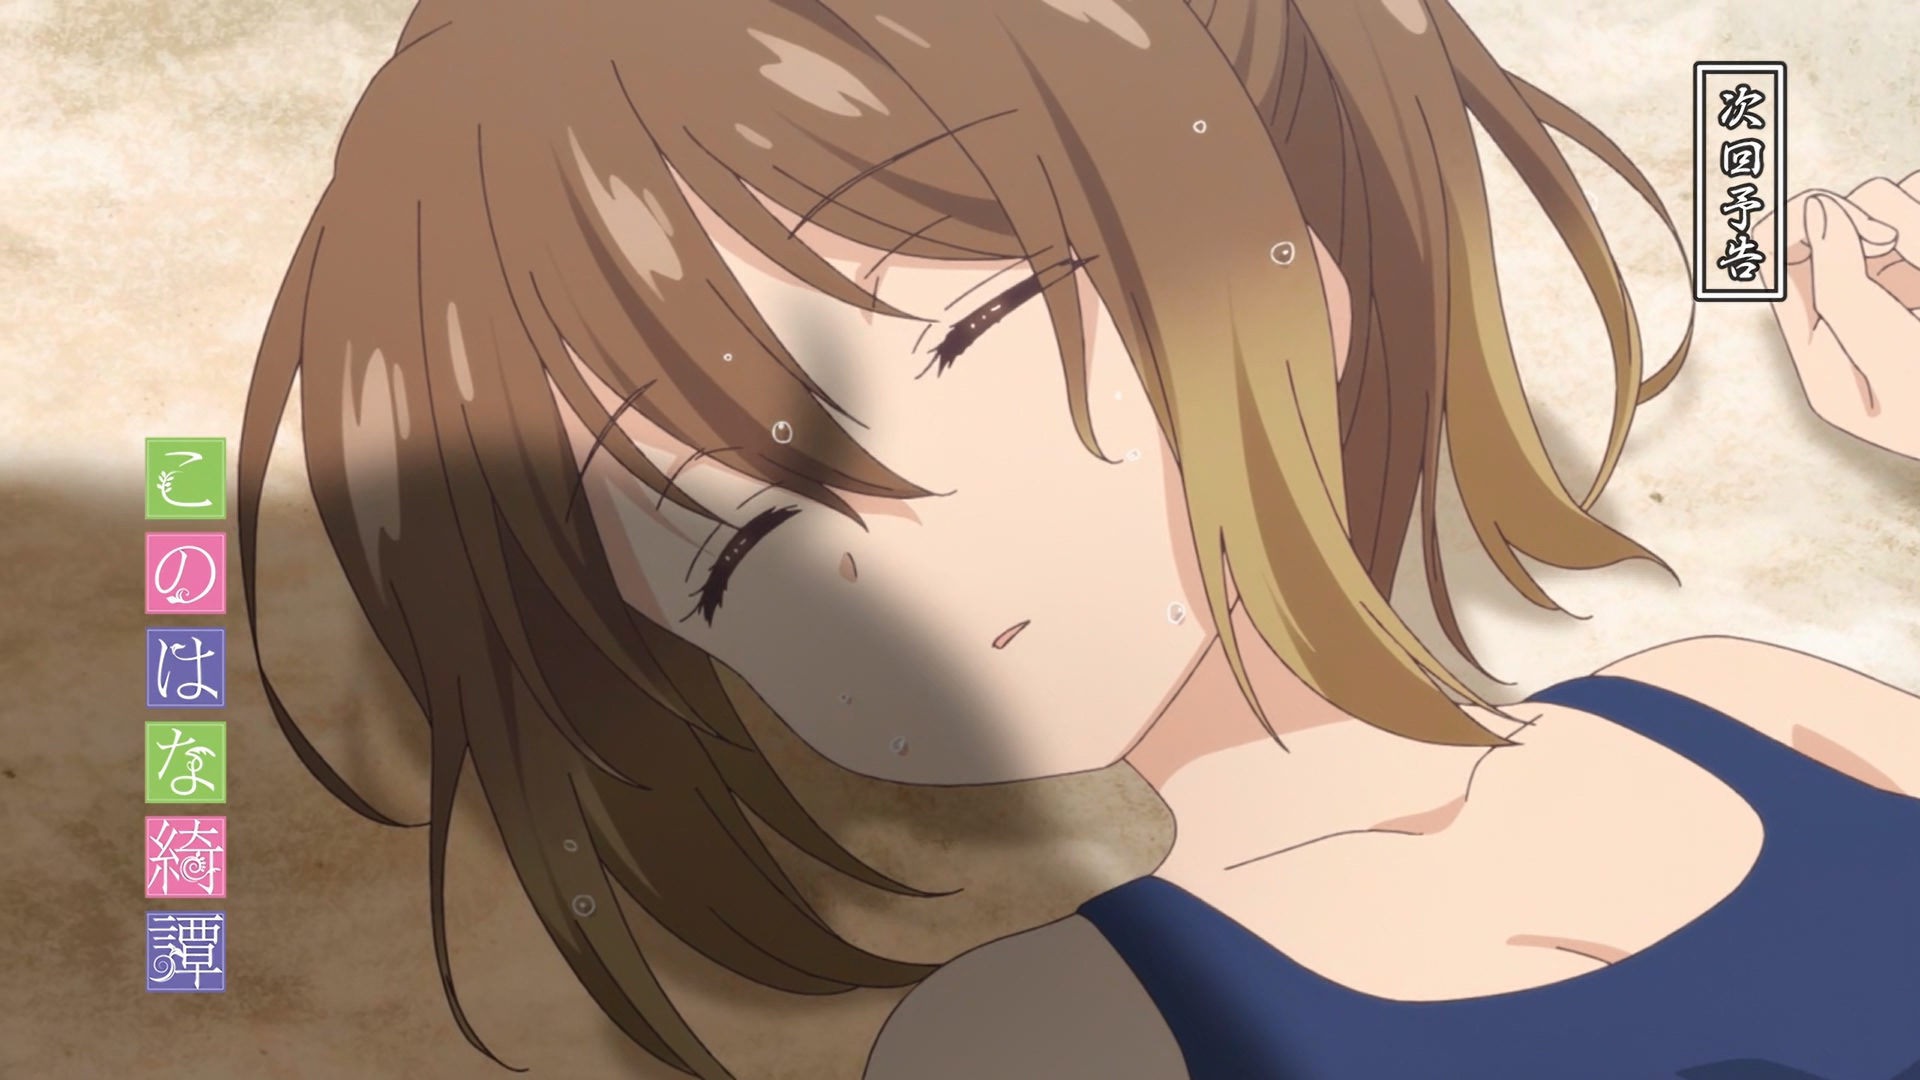其他: (237, 1, 1920, 1080)
